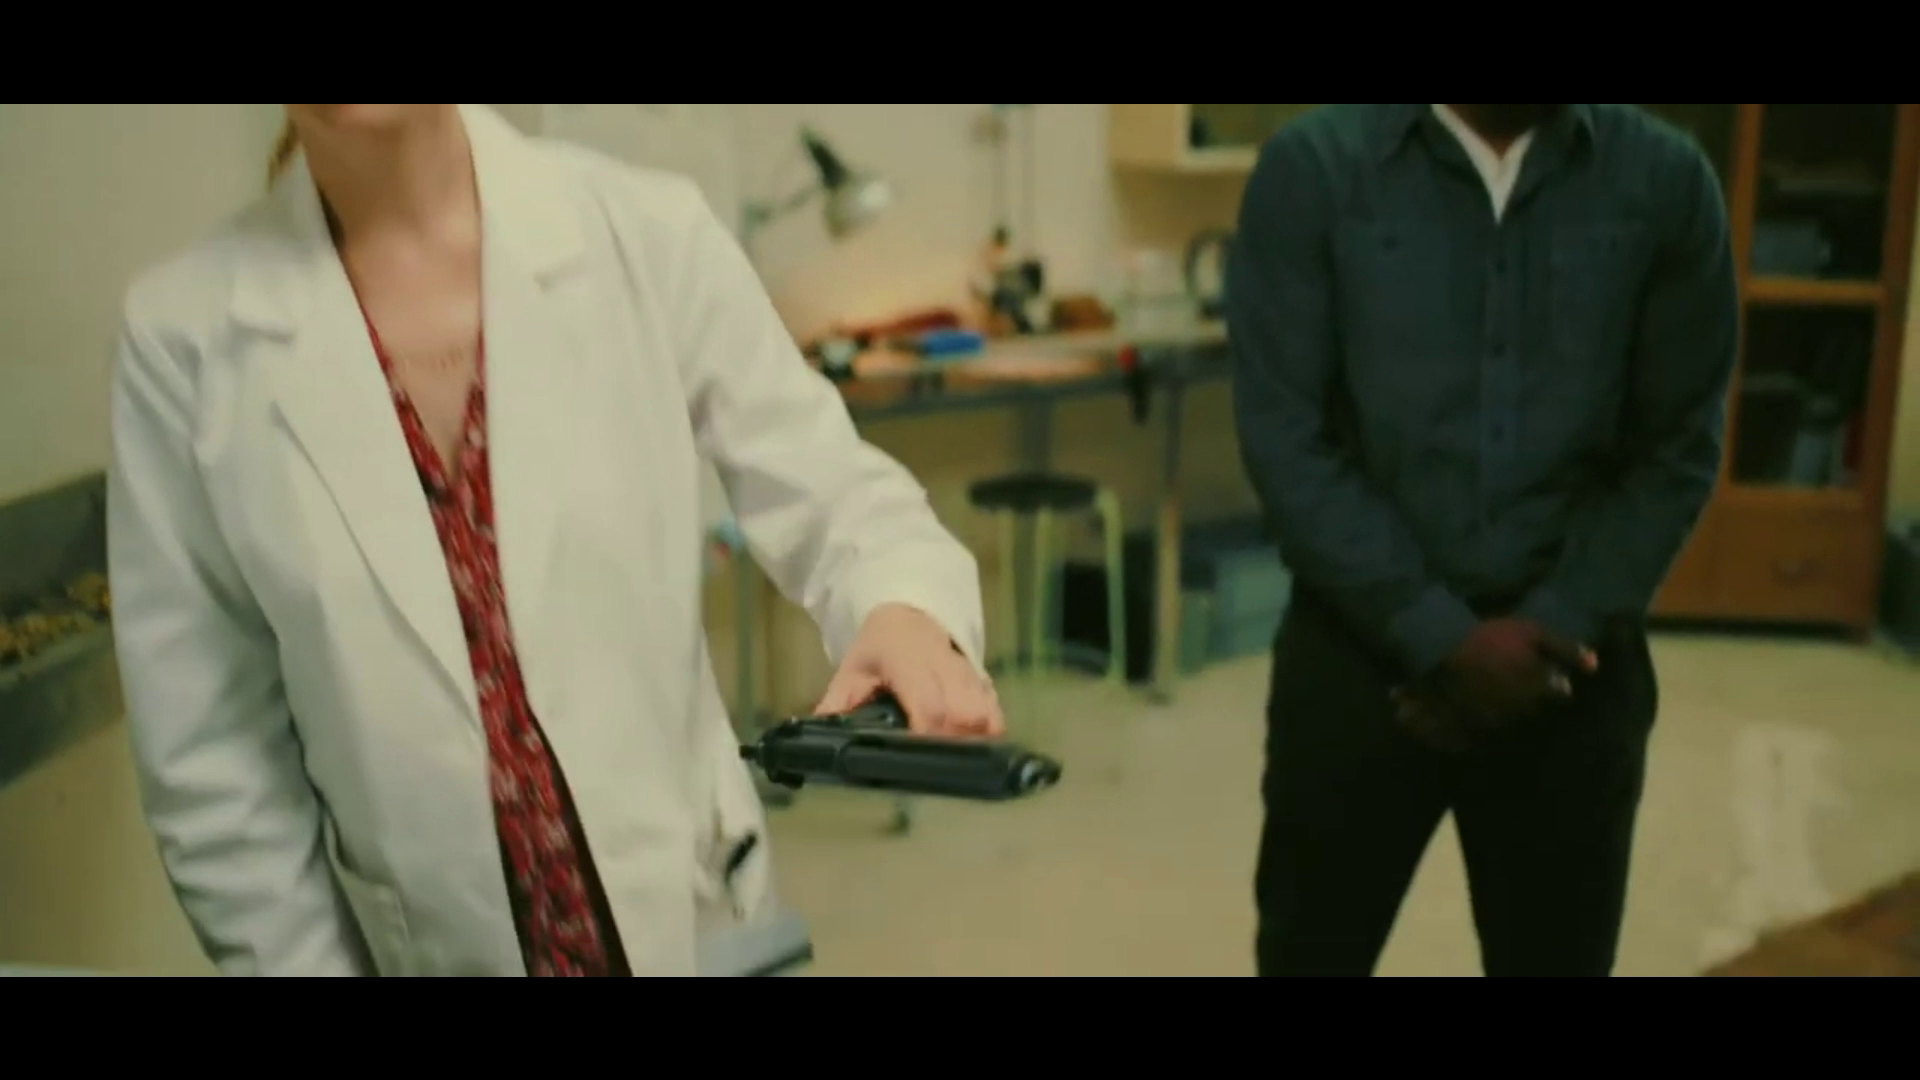SIG P226: (733, 694, 1062, 816)
